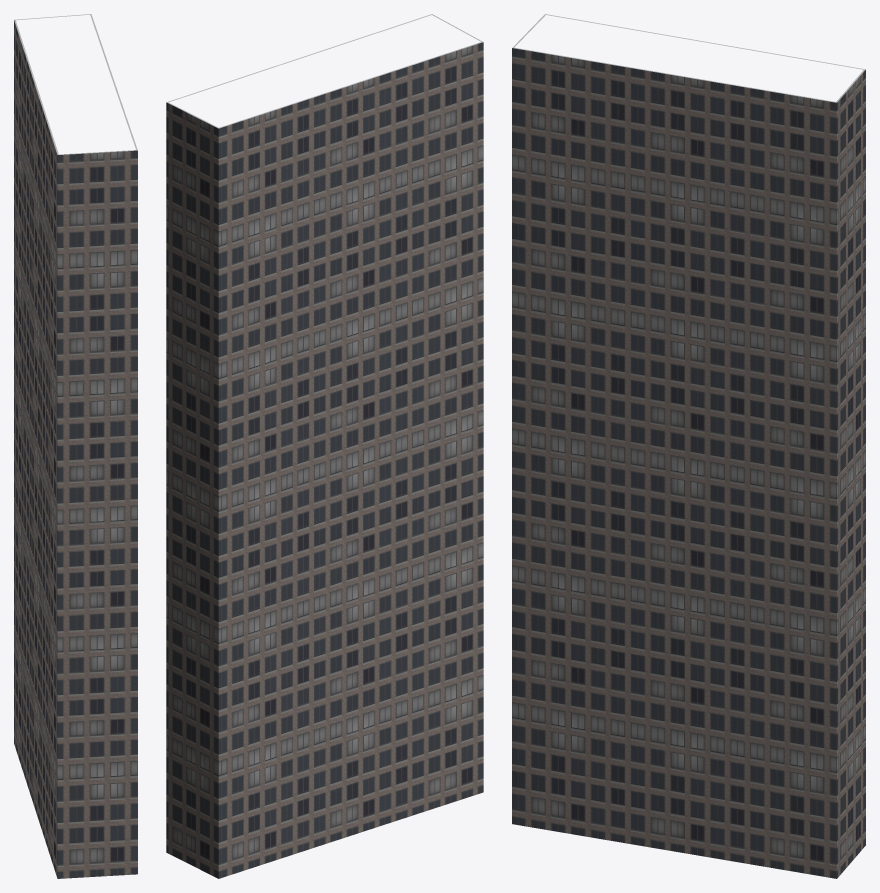
The picture shows the model from 3 angles, left to right: view 1: azimuth 30°, elevation 25°; view 2: azimuth 150°, elevation 25°; view 3: azimuth 270°, elevation 25°; orthographic projection. The views are drawn at different scales.
Parts seen in each view (by area): view 1: Facade018A, Coping; view 2: Facade018A, Coping; view 3: Facade018A, Coping.
Part boxes in pixels (x1=…): Facade018A: x1=14, y1=20, x2=137, y2=878; Coping: x1=14, y1=14, x2=137, y2=154; Facade018A: x1=166, y1=42, x2=483, y2=878; Coping: x1=166, y1=14, x2=483, y2=128; Facade018A: x1=512, y1=48, x2=865, y2=878; Coping: x1=512, y1=14, x2=865, y2=102.
Size of the model in its own units: 29.75 by 121 by 49.99.
2 materials, 1 textured.
